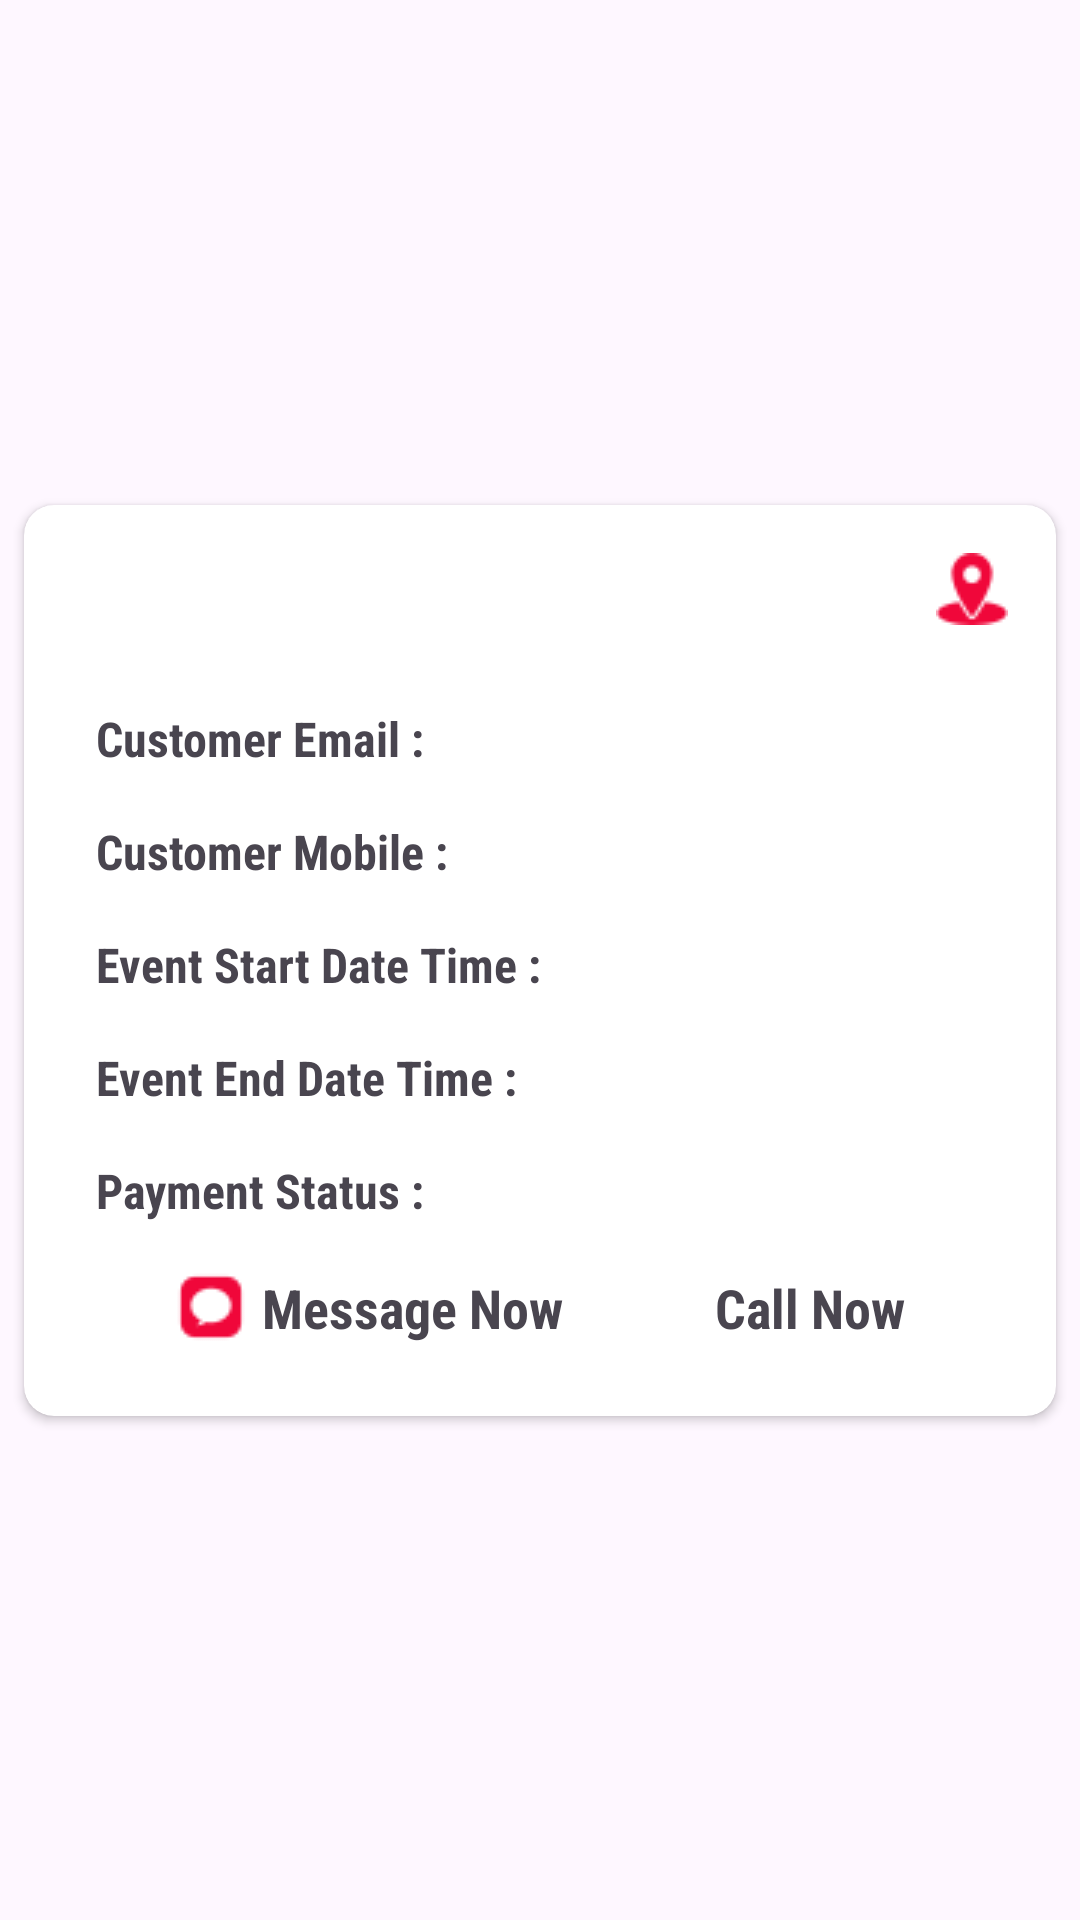

Point at icon controls on the screen. Image size 1080px x 1920px, points as (x=x, y=y).
location: (x=972, y=589)
